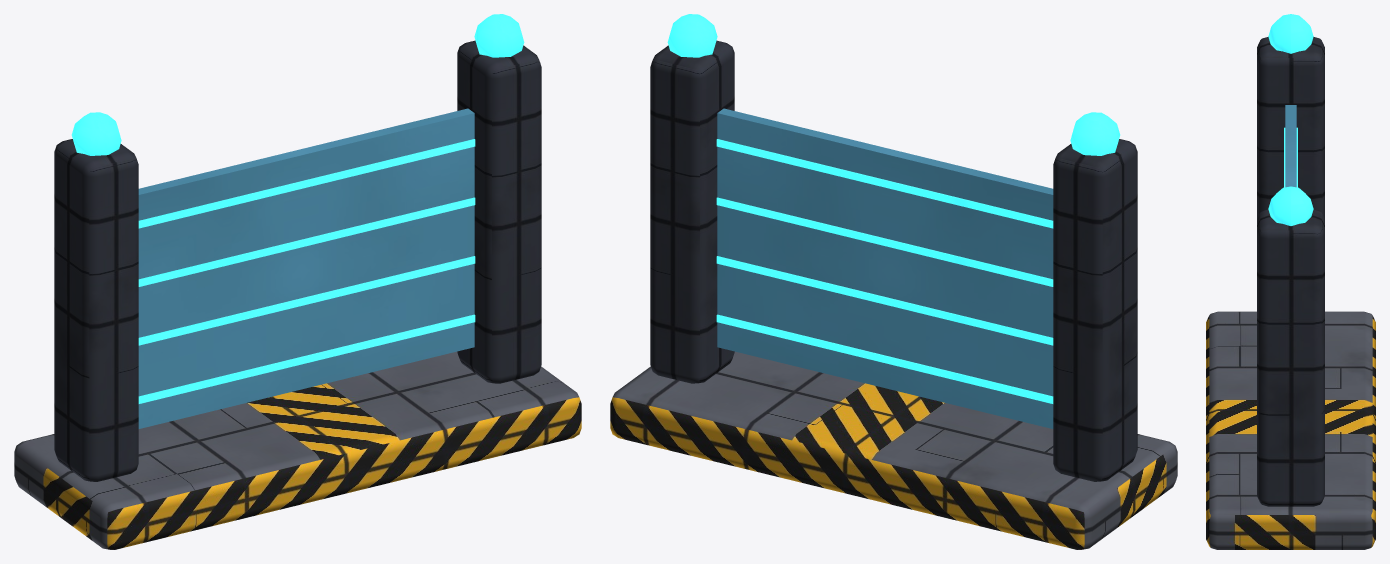
The model's file is sf_barricade.glb.
3 renders of one model, left to right at view 1: azimuth 30°, elevation 25°; view 2: azimuth 150°, elevation 25°; view 3: azimuth 270°, elevation 25°, orthographic. The views are drawn at different scales.
Visible parts, largest first — view 1: Base, Turret; view 2: Base, Turret; view 3: Base, Turret.
Boxes of the visible parts, x1,y1,x2,y2 form: Base: [14, 14, 581, 549]; Turret: [138, 108, 475, 428]; Base: [610, 14, 1177, 549]; Turret: [716, 108, 1053, 428]; Base: [1206, 14, 1375, 549]; Turret: [1284, 105, 1297, 187].
Size of the model in its own units: 0.86 by 0.68 by 0.3.
Materials: 4 (4 with a texture image).
